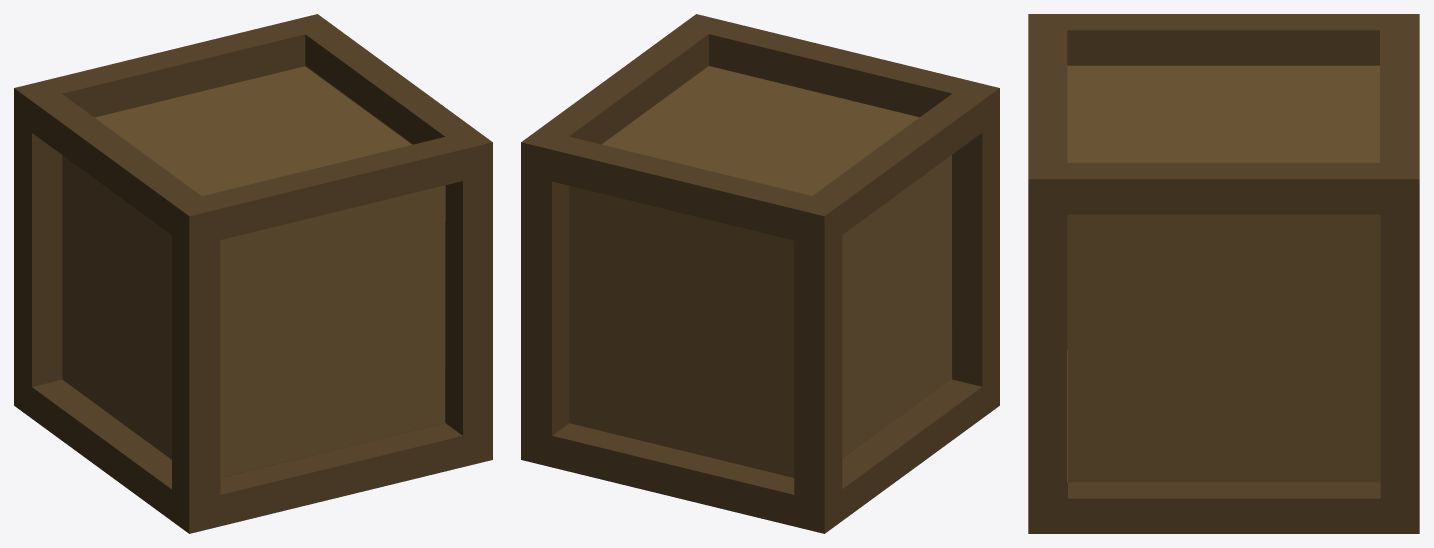
The model's file is WoodBlockV2.fbx.
3 renders of one model, left to right at view 1: azimuth 30°, elevation 25°; view 2: azimuth 150°, elevation 25°; view 3: azimuth 270°, elevation 25°, orthographic. The views are drawn at different scales.
Parts seen in each view (by area): view 1: WoodBlock; view 2: WoodBlock; view 3: WoodBlock.
Part boxes in pixels (x1=…): WoodBlock: x1=14, y1=14, x2=492, y2=533; WoodBlock: x1=521, y1=14, x2=999, y2=533; WoodBlock: x1=1028, y1=14, x2=1419, y2=533.
Size of the model in its own units: 200 by 200 by 200.
